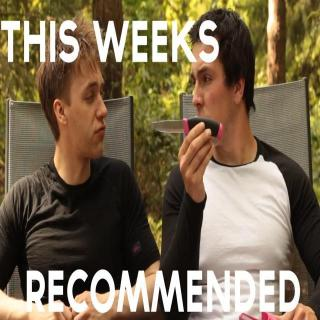knife: (146, 106, 228, 154)
